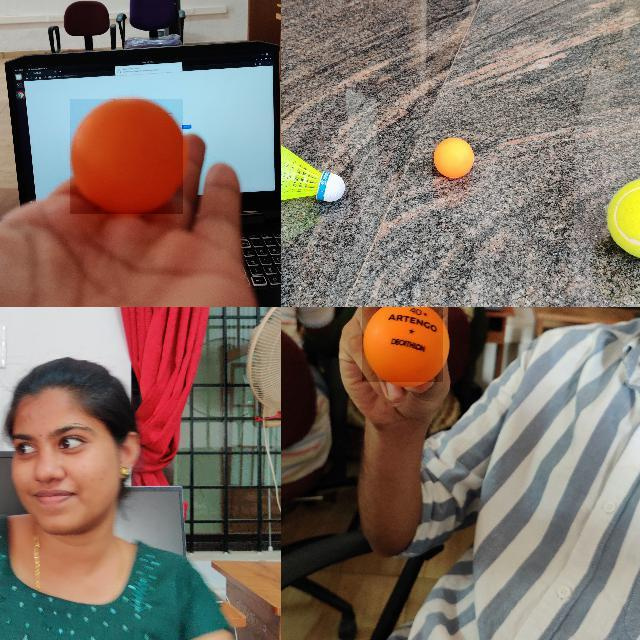ping-pong-ball: (70, 98, 184, 215), (362, 307, 445, 384), (432, 138, 474, 178)
